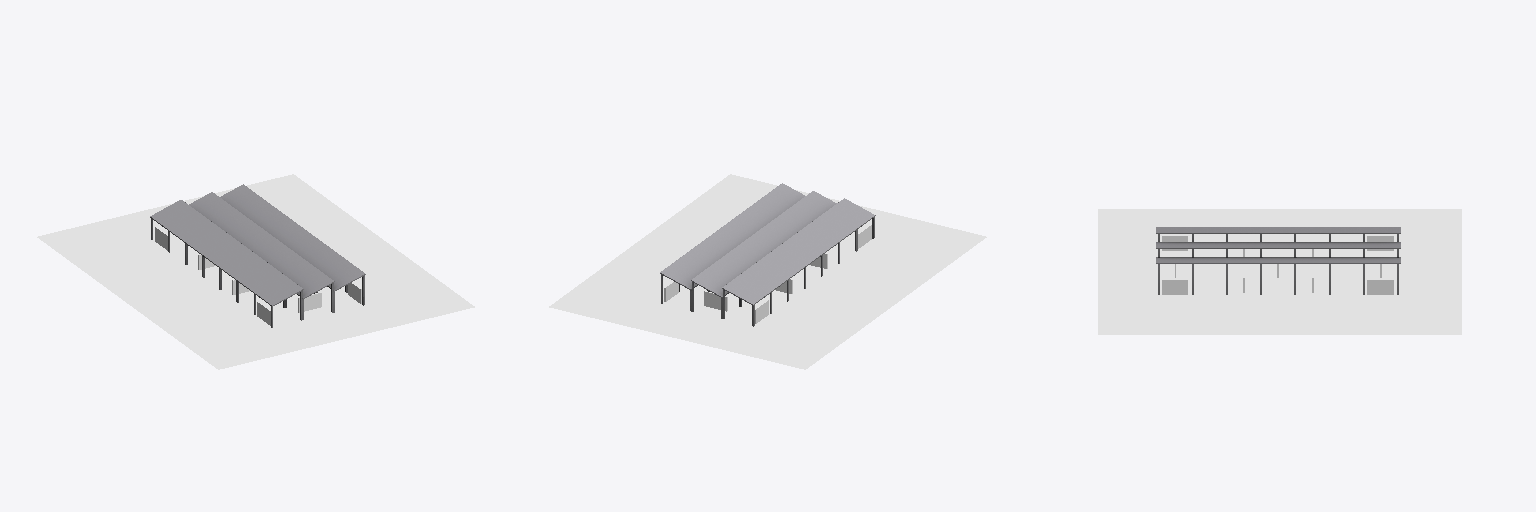
3 views of the same model, side by side, from view 1: azimuth 30°, elevation 25°; view 2: azimuth 150°, elevation 25°; view 3: azimuth 270°, elevation 25° (orthographic).
Parts seen in each view (by area): view 1: Plane001, Box010, Box021, Box013; view 2: Plane001, Box010, Box021, Box013; view 3: Plane001, Box010, Box021, Box013.
Boxes of the visible parts, x1=… form: Plane001: x1=37, y1=174, x2=474, y2=369; Box010: x1=150, y1=184, x2=365, y2=306; Box021: x1=155, y1=226, x2=361, y2=325; Box013: x1=151, y1=218, x2=364, y2=327; Plane001: x1=549, y1=174, x2=986, y2=369; Box010: x1=660, y1=183, x2=875, y2=305; Box021: x1=664, y1=225, x2=871, y2=323; Box013: x1=661, y1=217, x2=874, y2=326; Plane001: x1=1098, y1=209, x2=1461, y2=334; Box010: x1=1156, y1=227, x2=1400, y2=263; Box021: x1=1162, y1=236, x2=1393, y2=294; Box013: x1=1158, y1=234, x2=1398, y2=294.
Bounding box in the file's own units: 174 × 20.69 × 213.
Materials: 4 (2 with a texture image).